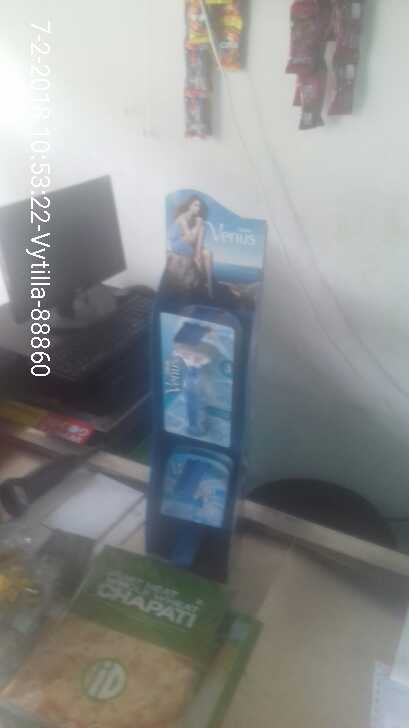venus: (158, 314, 229, 444), (163, 453, 220, 523)
